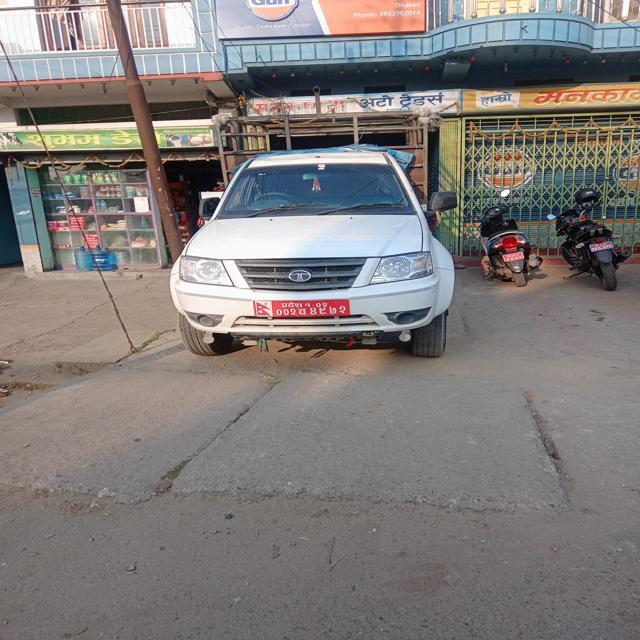license_plate: (249, 291, 368, 336), (491, 238, 541, 276)
